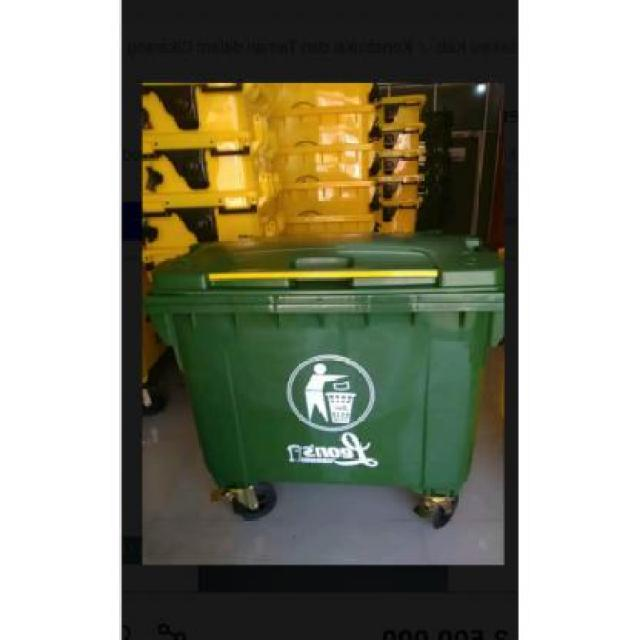garbage container: (144, 223, 504, 534)
